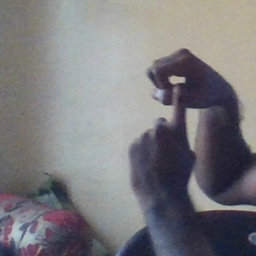Q: (123, 44, 225, 176)
